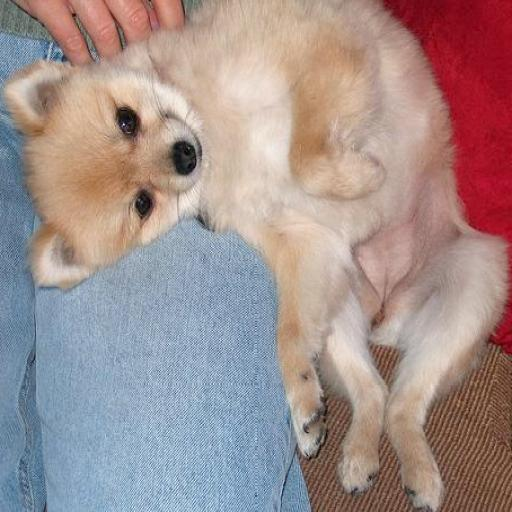dog_face: (0, 56, 205, 279)
